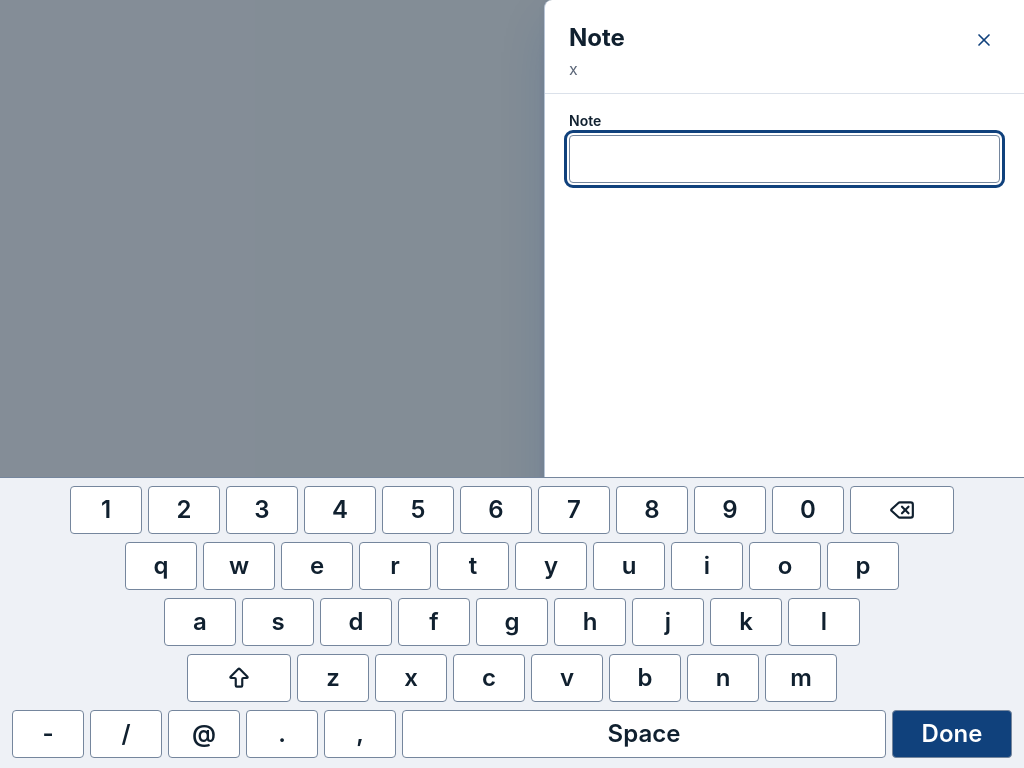
Test: On-screen keyboard › tapping keys does not close the sheet the box is in
Click the button "h" at (590,622), box [554, 598, 626, 646]
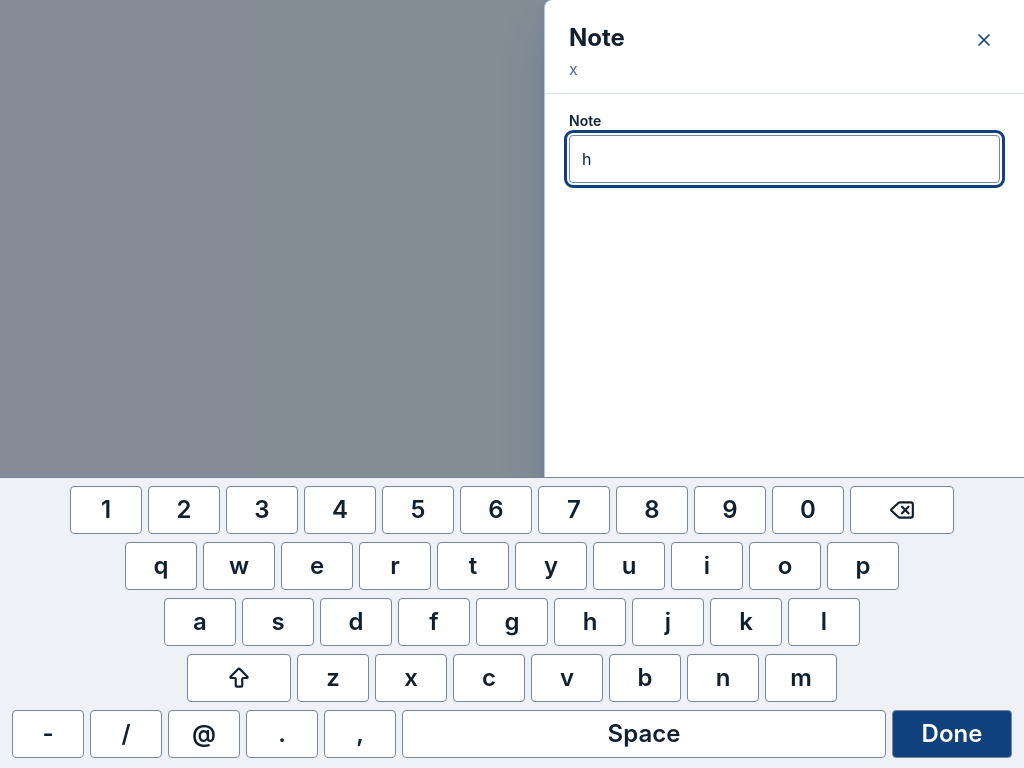
Click the button "i" at (707,566), box [671, 542, 743, 590]
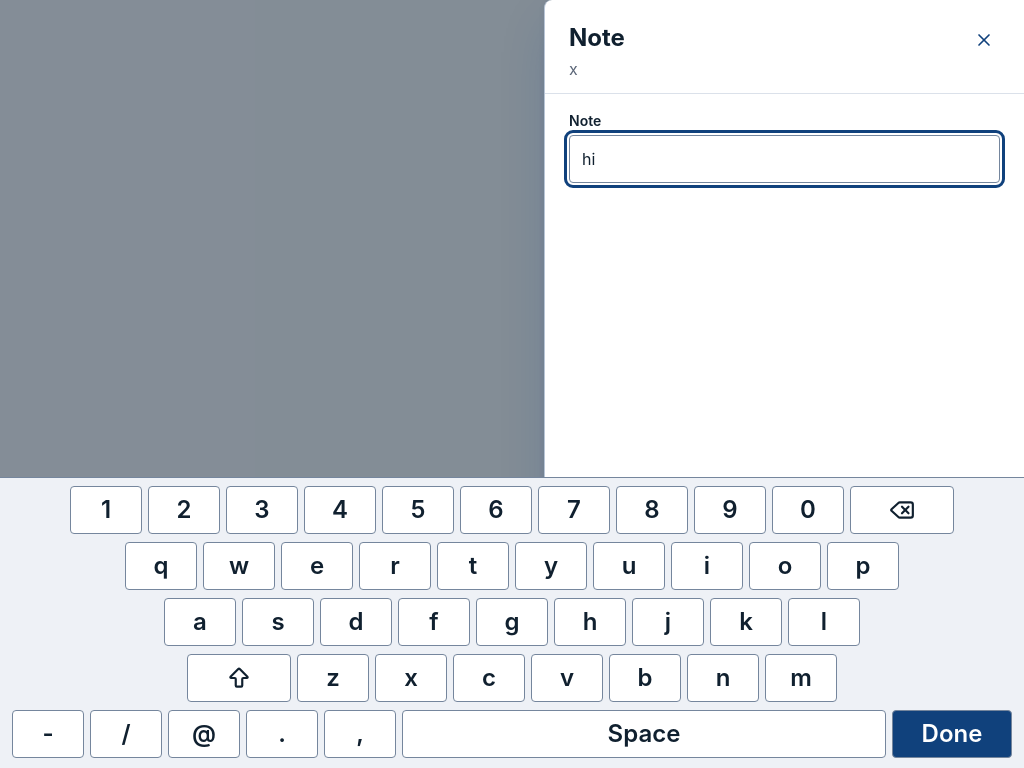
Expected: the field with test id "note" holds "hi", [569, 135, 1000, 183]
